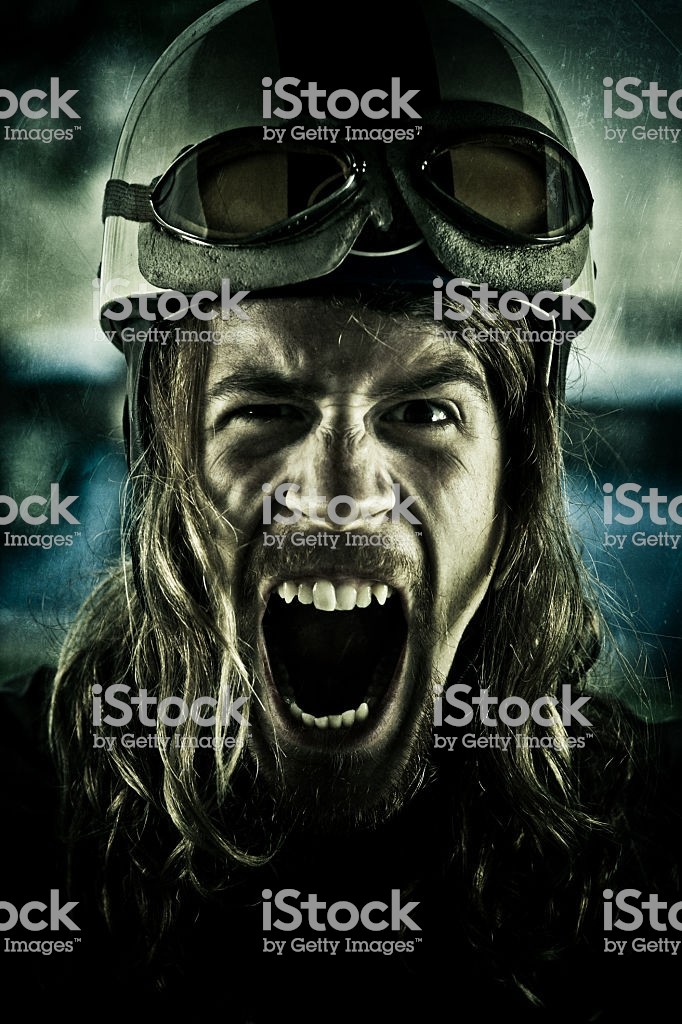helmet: (80, 6, 596, 332)
